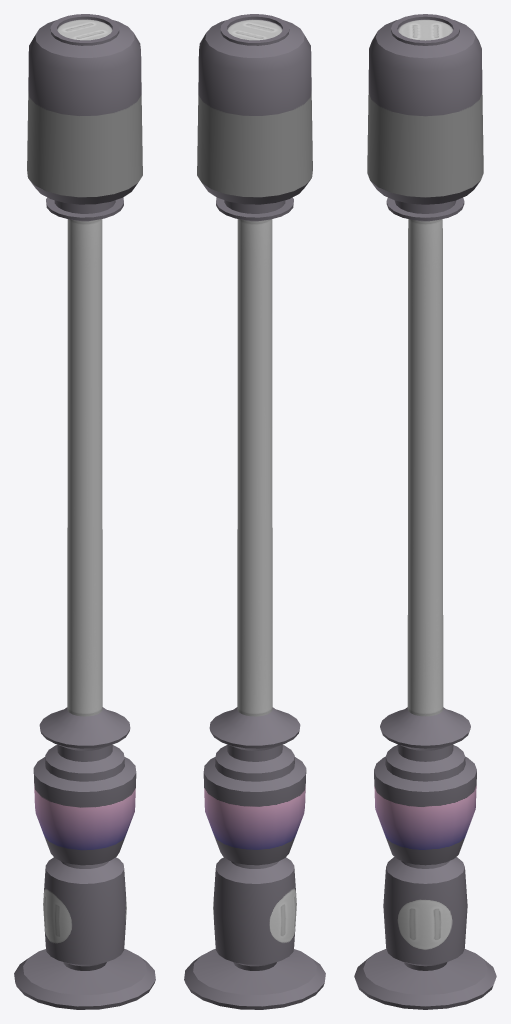
The model's file is Lamp01.fbx.
The picture shows the model from 3 angles, left to right: view 1: azimuth 30°, elevation 25°; view 2: azimuth 150°, elevation 25°; view 3: azimuth 270°, elevation 25°; orthographic projection.
Parts seen in each view (by area): view 1: Lamp_LOD0; view 2: Lamp_LOD0; view 3: Lamp_LOD0.
Boxes of the visible parts, x1,y1,x2,y2 form: Lamp_LOD0: [14, 14, 155, 1009]; Lamp_LOD0: [184, 14, 325, 1009]; Lamp_LOD0: [354, 14, 496, 1009].
Size of what is drawn, in the model's own units: 71.24 by 525 by 71.24.
